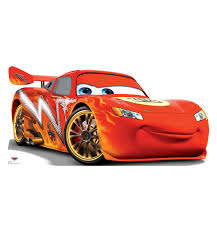mcqueen: (7, 63, 211, 166)
